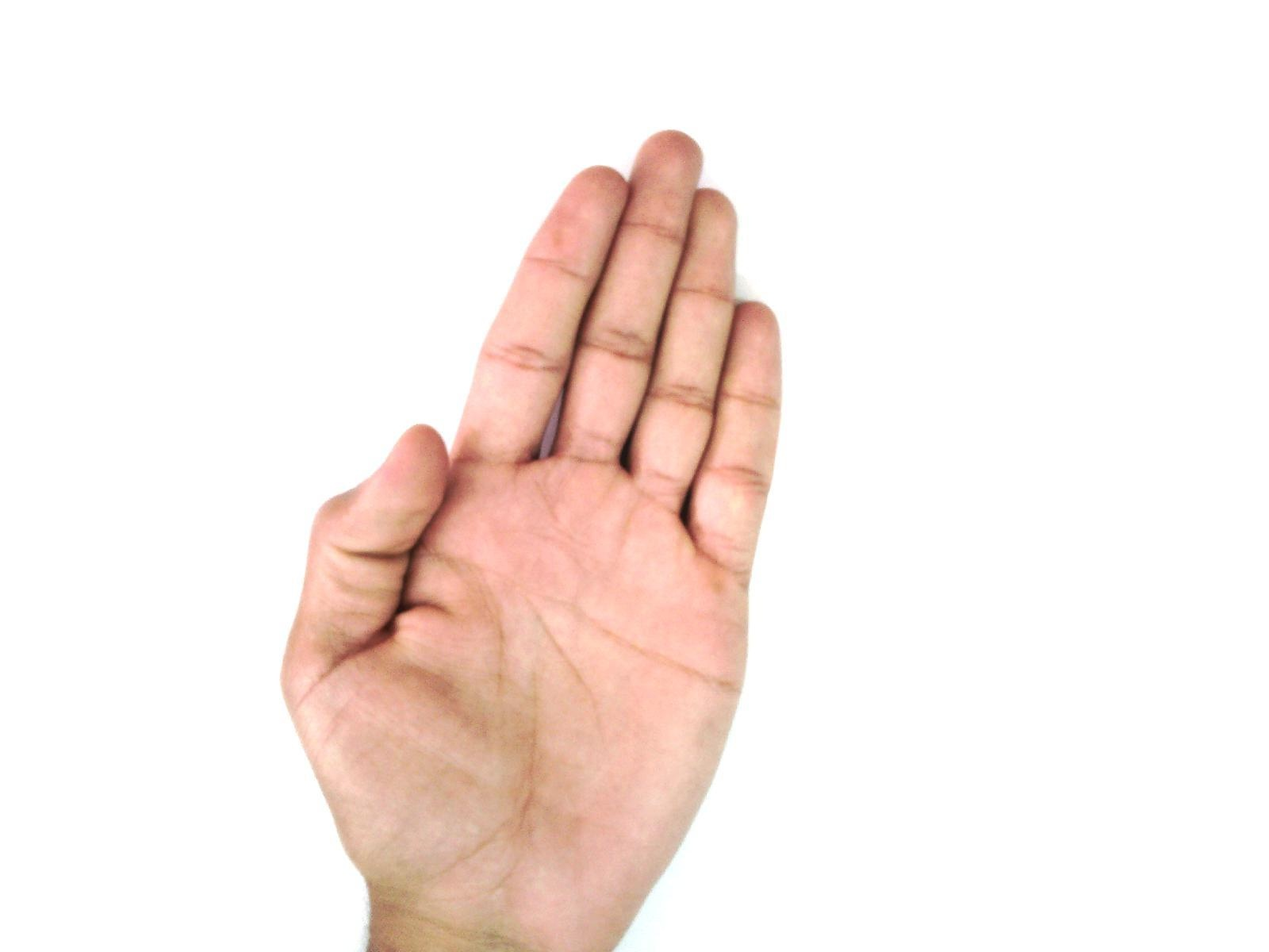open_palm: (278, 129, 786, 950)
